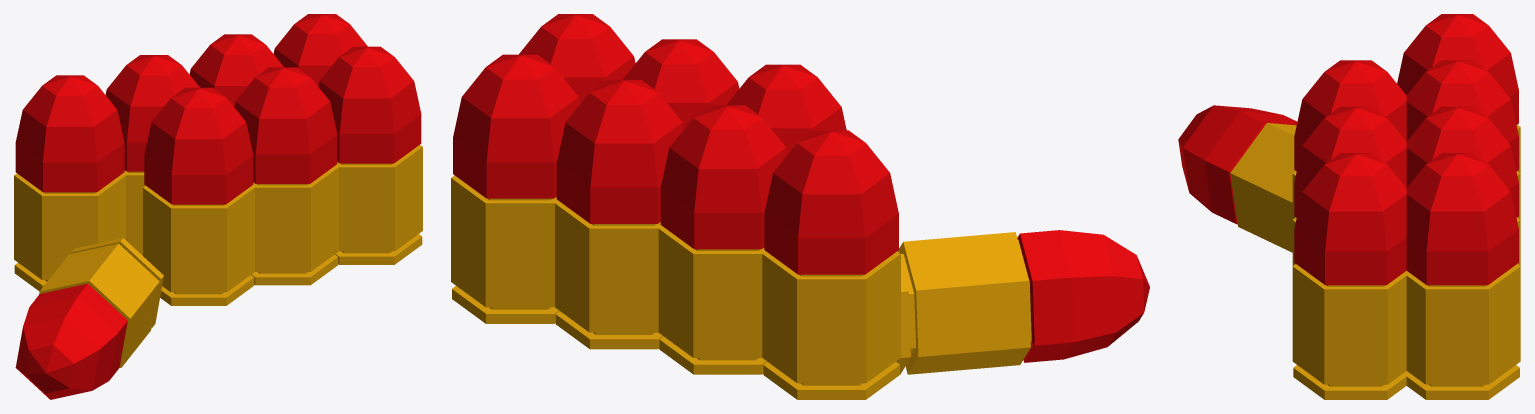
File: Bullet (2).fbx
The picture shows the model from 3 angles, left to right: view 1: azimuth 30°, elevation 25°; view 2: azimuth 150°, elevation 25°; view 3: azimuth 270°, elevation 25°; orthographic projection. The views are drawn at different scales.
Parts seen in each view (by area): view 1: Bullet; view 2: Bullet; view 3: Bullet.
Boxes of the visible parts, x1=… form: Bullet: x1=14, y1=14, x2=422, y2=399; Bullet: x1=451, y1=14, x2=1149, y2=399; Bullet: x1=1178, y1=14, x2=1520, y2=399.
Bounding box in the file's own units: 56.85 × 27.78 × 33.61.
